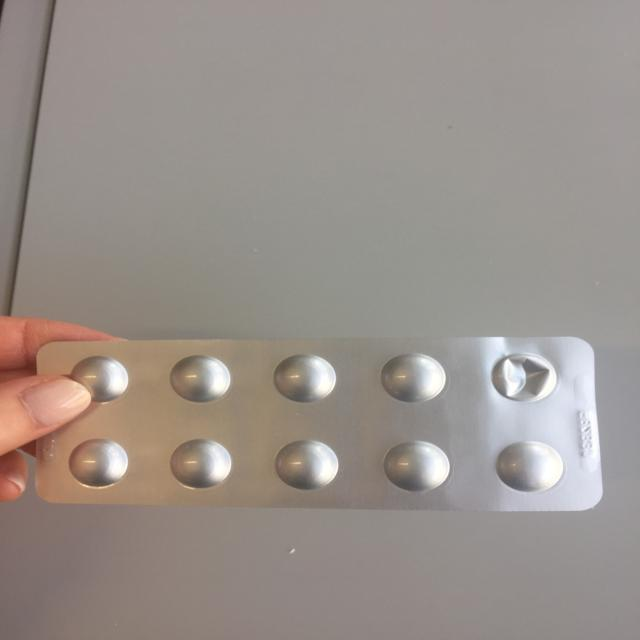Empty: (488, 348, 559, 406)
Pill: (378, 439, 456, 495), (492, 439, 568, 495), (377, 351, 452, 406), (270, 438, 346, 492), (166, 435, 235, 491), (166, 354, 238, 405), (270, 354, 341, 404), (66, 436, 132, 488), (66, 354, 132, 404)
